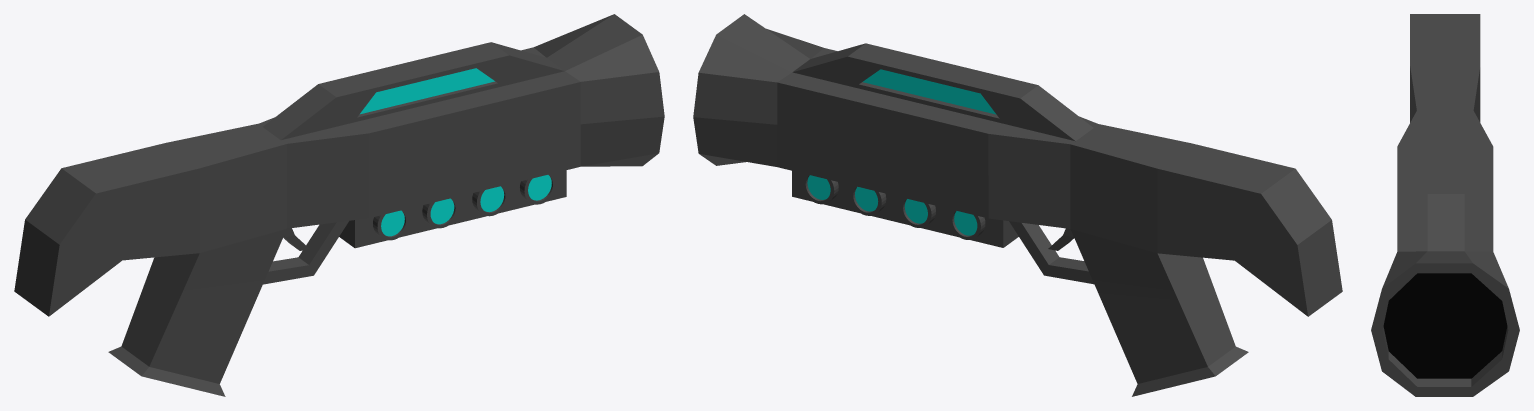
Rendered from ShotgunIK 1.fbx.
3 renders of one model, left to right at view 1: azimuth 30°, elevation 25°; view 2: azimuth 150°, elevation 25°; view 3: azimuth 270°, elevation 25°, orthographic.
Parts seen in each view (by area): view 1: Cube; view 2: Cube; view 3: Cube.
Boxes of the visible parts, left/top/right/bottom form: Cube: left=14, top=14, right=664, bottom=396; Cube: left=693, top=14, right=1342, bottom=396; Cube: left=1371, top=14, right=1519, bottom=396.
Size of the model in its own units: 408 by 173 by 86.83.
